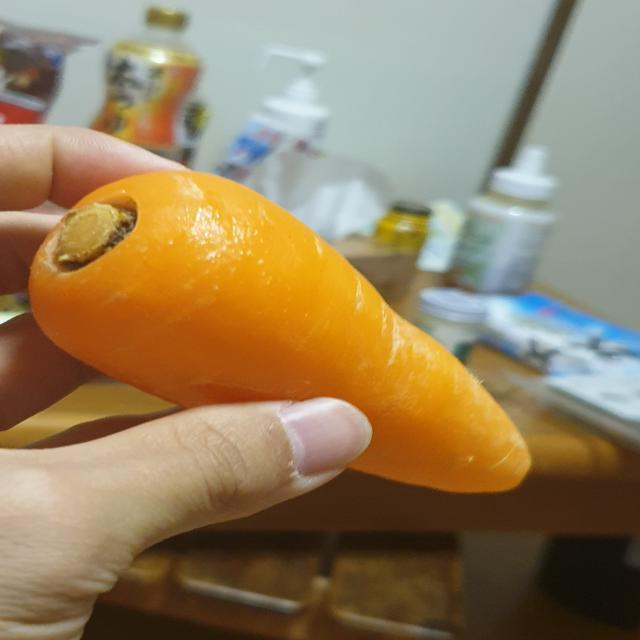carrot: (21, 163, 542, 500)
